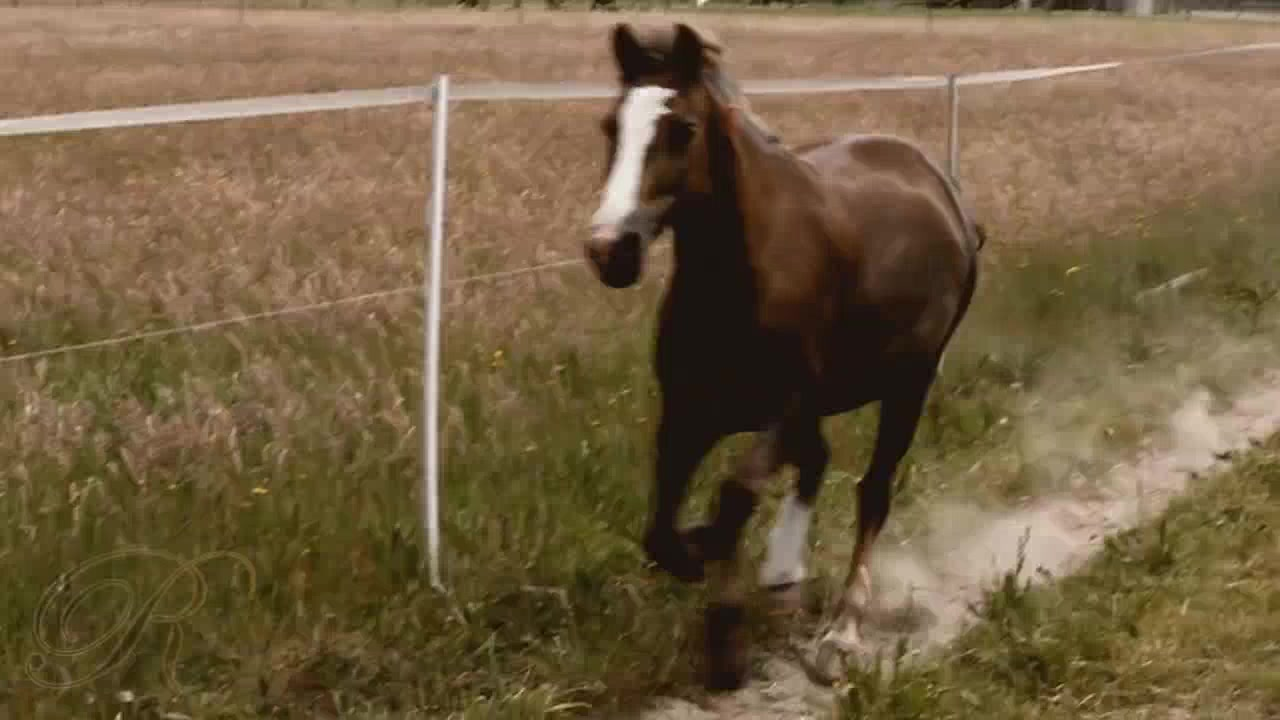horse: (581, 19, 986, 711)
